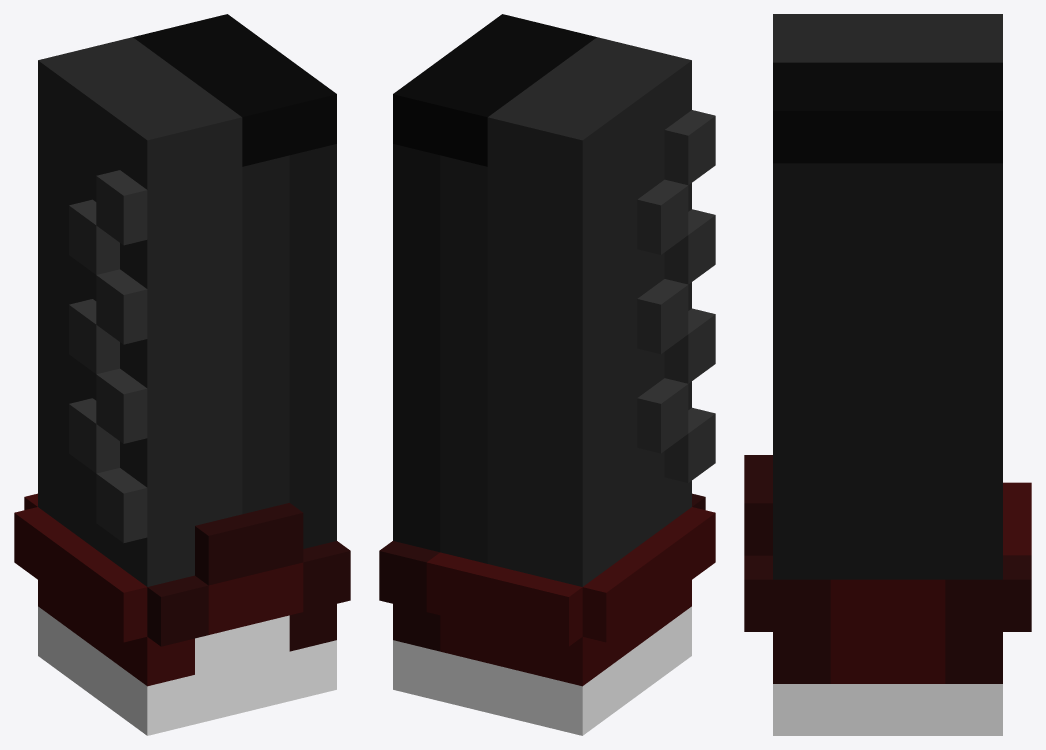
The model's file is rightLeg.obj.
3 views of the same model, side by side, from view 1: azimuth 30°, elevation 25°; view 2: azimuth 150°, elevation 25°; view 3: azimuth 270°, elevation 25° (orthographic). The views are drawn at different scales.
Size of the model in its own units: 0.9 by 2.4 by 1.
Materials: 1 (1 with a texture image).
